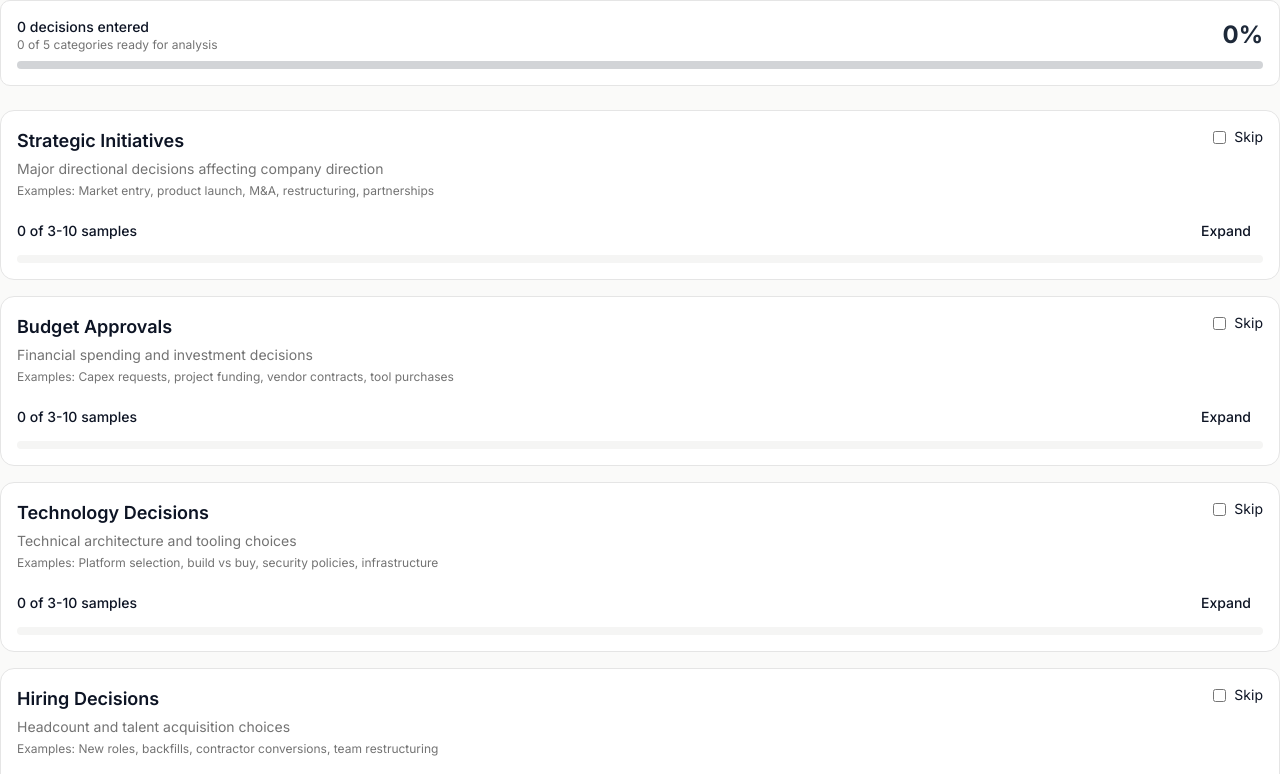
Test: DecisionVelocityScorer › progress tracking › updates count when archetype is skipped
// Skip one archetype
What coordinates should you click on to do the following:
click the checkbox labelled "Skip" in the row of "Strategic Initiatives"
I would click on:
 (1220, 137)
Its box is [1213,130,1226,144].
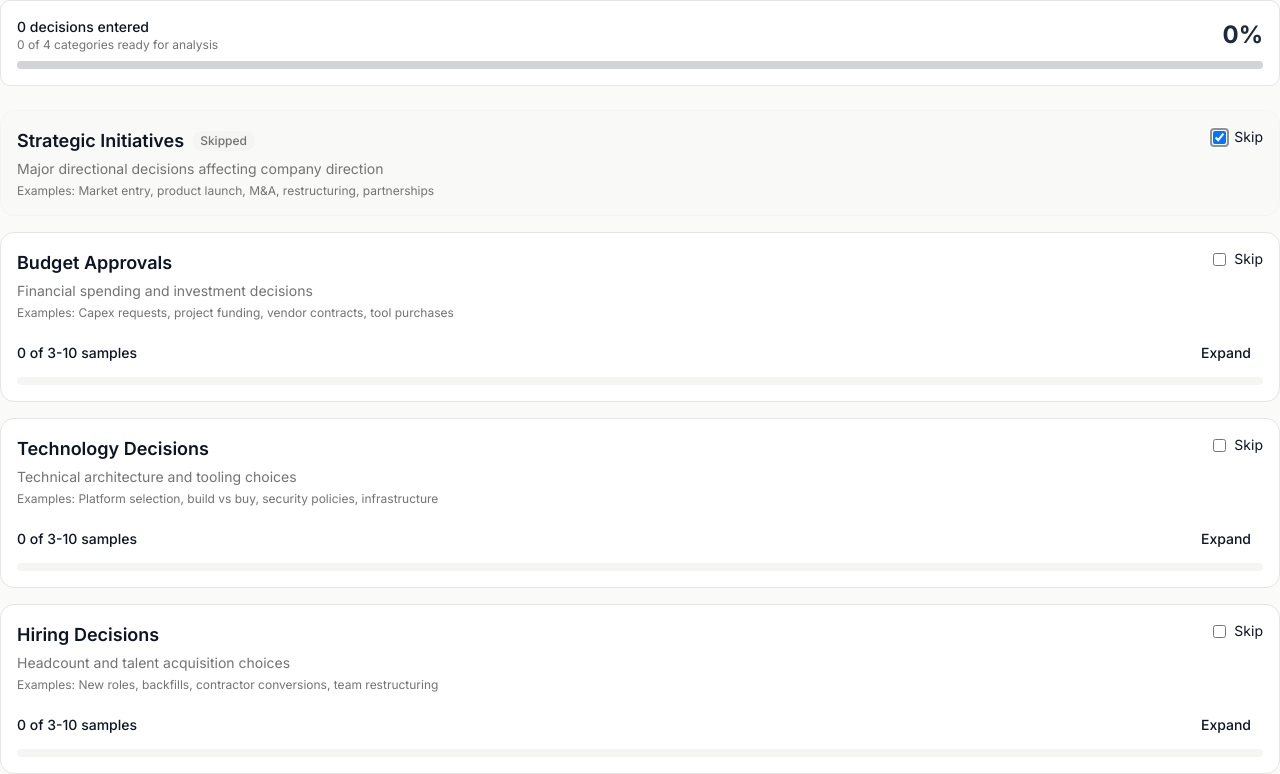
Now the text "0 of 4 categories ready for analysis" is shown, box [17,37,218,53]
